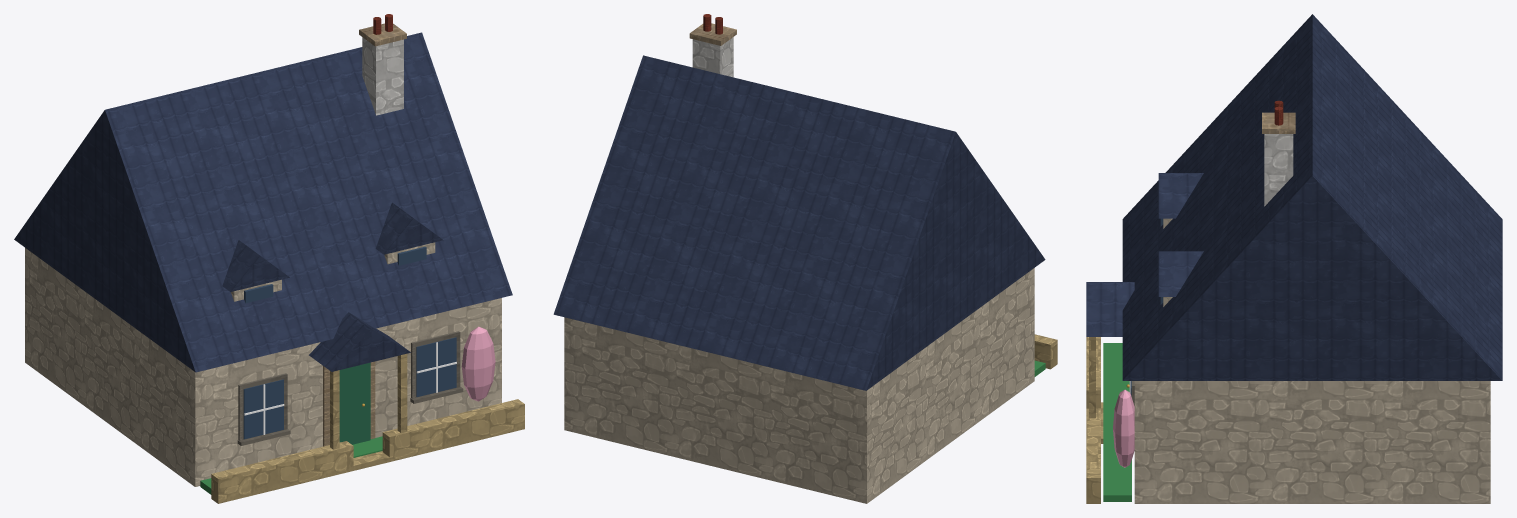
File: pedra_w8_1.gltf
3 views of the same model, side by side, from view 1: azimuth 30°, elevation 25°; view 2: azimuth 150°, elevation 25°; view 3: azimuth 270°, elevation 25° (orthographic). The views are drawn at different scales.
Visible parts, largest first — view 1: pedra_w8_1; view 2: pedra_w8_1; view 3: pedra_w8_1.
Part boxes in pixels (box(x1,y1,x2,y2)): pedra_w8_1: box(14, 14, 524, 503); pedra_w8_1: box(553, 14, 1057, 503); pedra_w8_1: box(1086, 14, 1502, 503).
Size of what is drawn, in the model's own units: 7.96 by 8.7 by 8.65.
7 materials, 4 textured.
